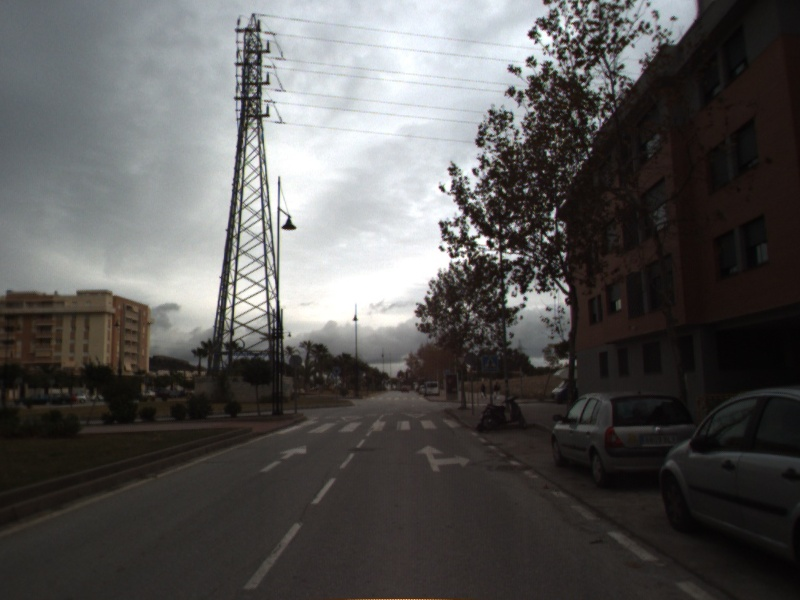STRAIGHT: (257, 443, 308, 475)
STRAIGHT_RIGHT: (413, 443, 472, 474)
